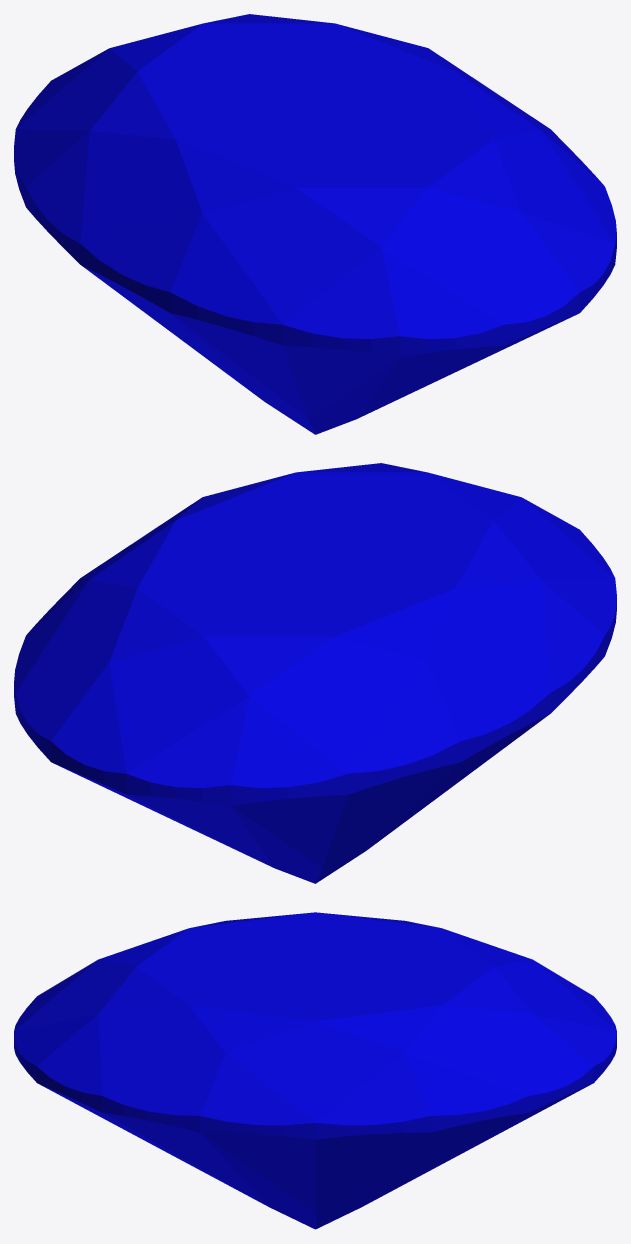
File: Head_Single Halo_Oval_2.0ct_Diamond.glb
The picture shows the model from 3 angles, top to bottom: view 1: azimuth 30°, elevation 25°; view 2: azimuth 150°, elevation 25°; view 3: azimuth 270°, elevation 25°; orthographic projection. The views are drawn at different scales.
Size of the model in its own units: 0.00702 by 0.0047 by 0.00977.
